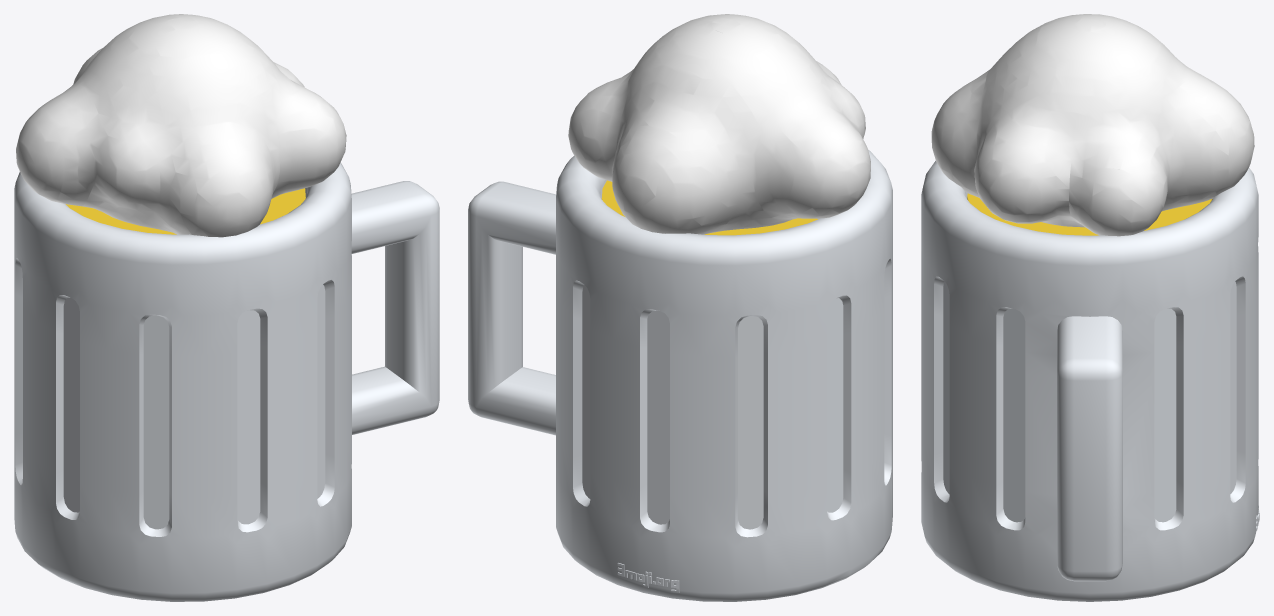
The model's file is beer_mug.glb.
3 views of the same model, side by side, from view 1: azimuth 30°, elevation 25°; view 2: azimuth 150°, elevation 25°; view 3: azimuth 270°, elevation 25° (orthographic).
Parts seen in each view (by area): view 1: Circle.029; view 2: Circle.029; view 3: Circle.029.
Boxes of the visible parts, bbox=[...] form: Circle.029: bbox=[14, 14, 439, 601]; Circle.029: bbox=[468, 14, 892, 601]; Circle.029: bbox=[921, 14, 1259, 601].
Size of the model in its own units: 1.76 by 2.17 by 1.3.
Materials: 2 (1 with a texture image).
